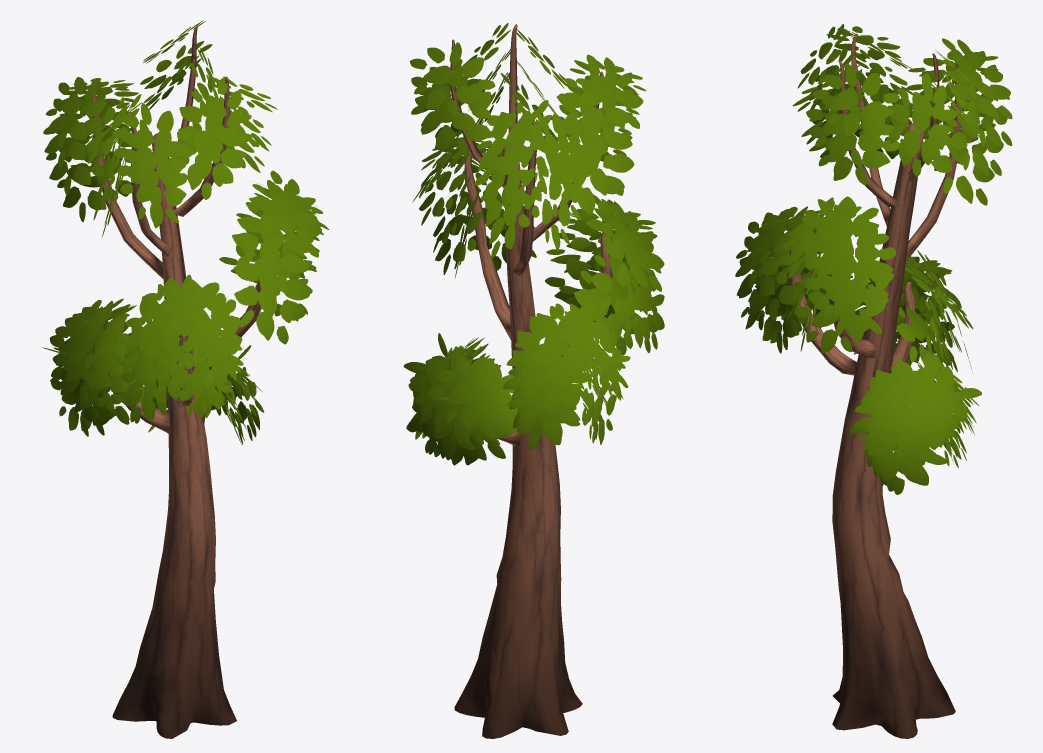
File: commontree_3_lod2.glb
3 renders of one model, left to right at view 1: azimuth 30°, elevation 25°; view 2: azimuth 150°, elevation 25°; view 3: azimuth 270°, elevation 25°, orthographic. The views are drawn at different scales.
Visible parts, largest first — view 1: CommonTree_3; view 2: CommonTree_3; view 3: CommonTree_3.
Boxes of the visible parts, left/top/right/bottom form: CommonTree_3: left=42, top=20, right=328, bottom=738; CommonTree_3: left=403, top=23, right=664, bottom=738; CommonTree_3: left=735, top=24, right=1012, bottom=738.
Bounding box in the file's own units: 3.72 × 8.45 × 3.45.
2 materials, 2 textured.
